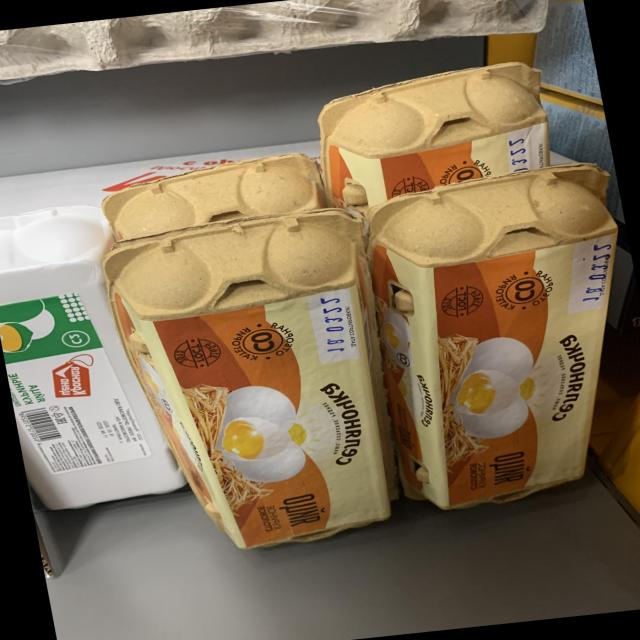organic waste: (108, 200, 420, 556), (340, 162, 640, 514), (0, 194, 181, 514), (319, 62, 562, 193), (100, 154, 312, 236)
